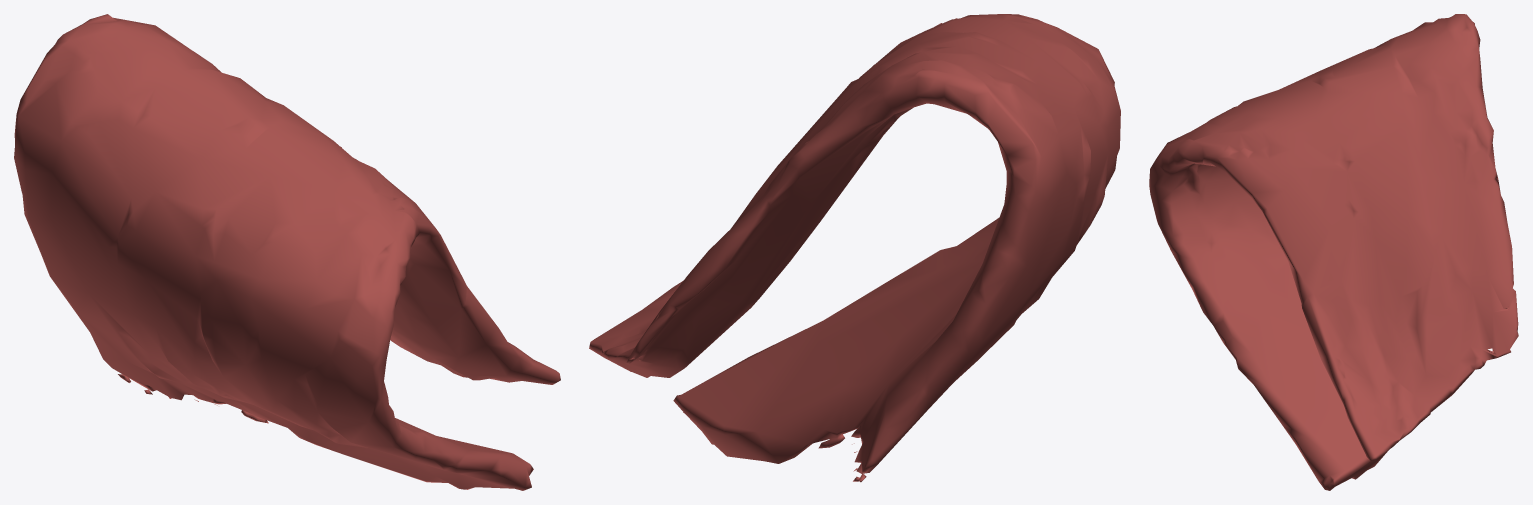
File: FMA258850.glb
3 renders of one model, left to right at view 1: azimuth 30°, elevation 25°; view 2: azimuth 150°, elevation 25°; view 3: azimuth 270°, elevation 25°, orthographic. The views are drawn at different scales.
Parts seen in each view (by area): view 1: FMA258850; view 2: FMA258850; view 3: FMA258850.
Boxes of the visible parts, <box> form: FMA258850: <box>14,14,560,490</box>; FMA258850: <box>589,14,1120,482</box>; FMA258850: <box>1149,14,1518,490</box>.
Bounding box in the file's own units: 0.00768 × 0.00733 × 0.00692.
